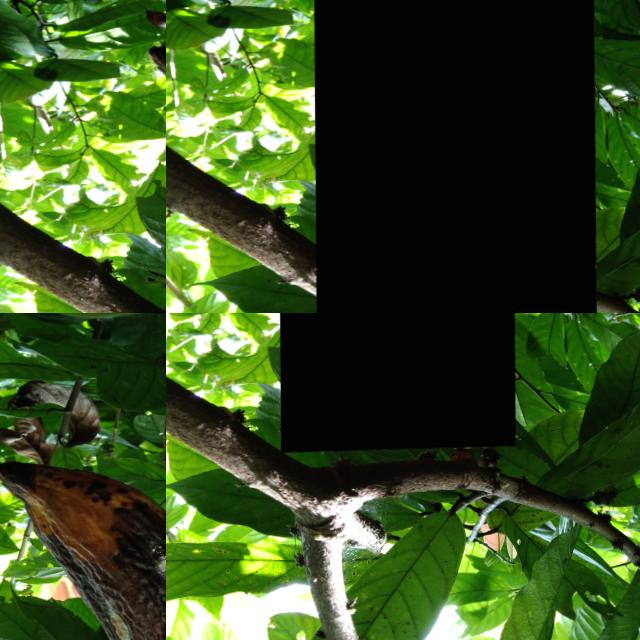Monilia: (278, 313, 514, 454)
Sana: (313, 0, 596, 313), (117, 491, 166, 556), (32, 532, 67, 589), (17, 562, 55, 606), (90, 547, 125, 576), (66, 542, 88, 581), (69, 556, 78, 576)
